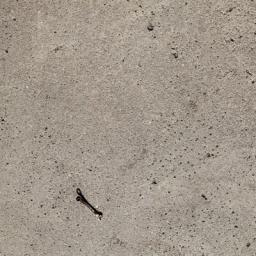FOD: (73, 184, 108, 223)
